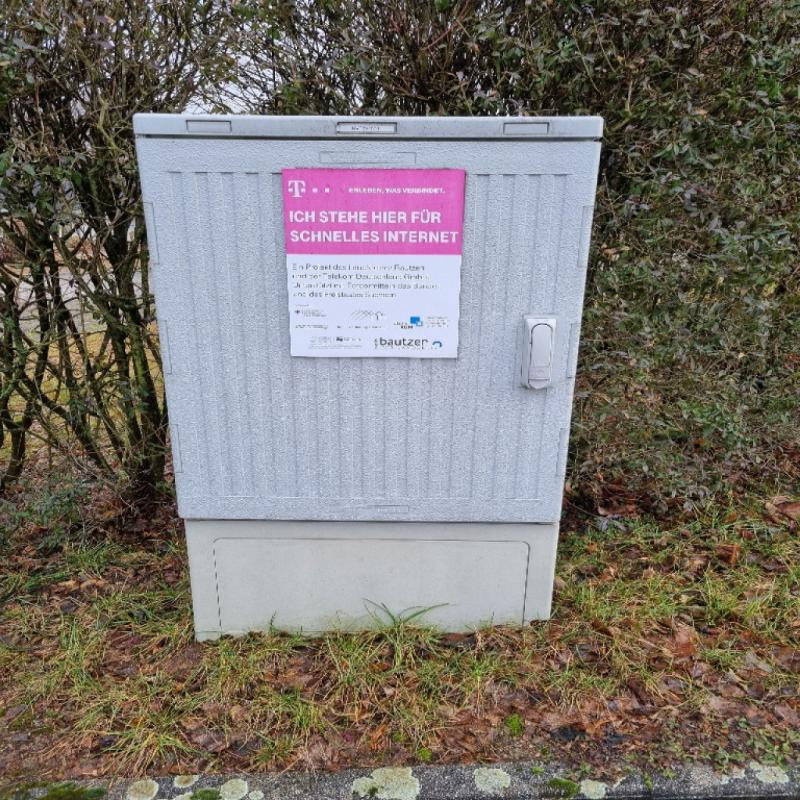NT-Gehause: (133, 113, 599, 622)
Steaker: (285, 167, 466, 359)
